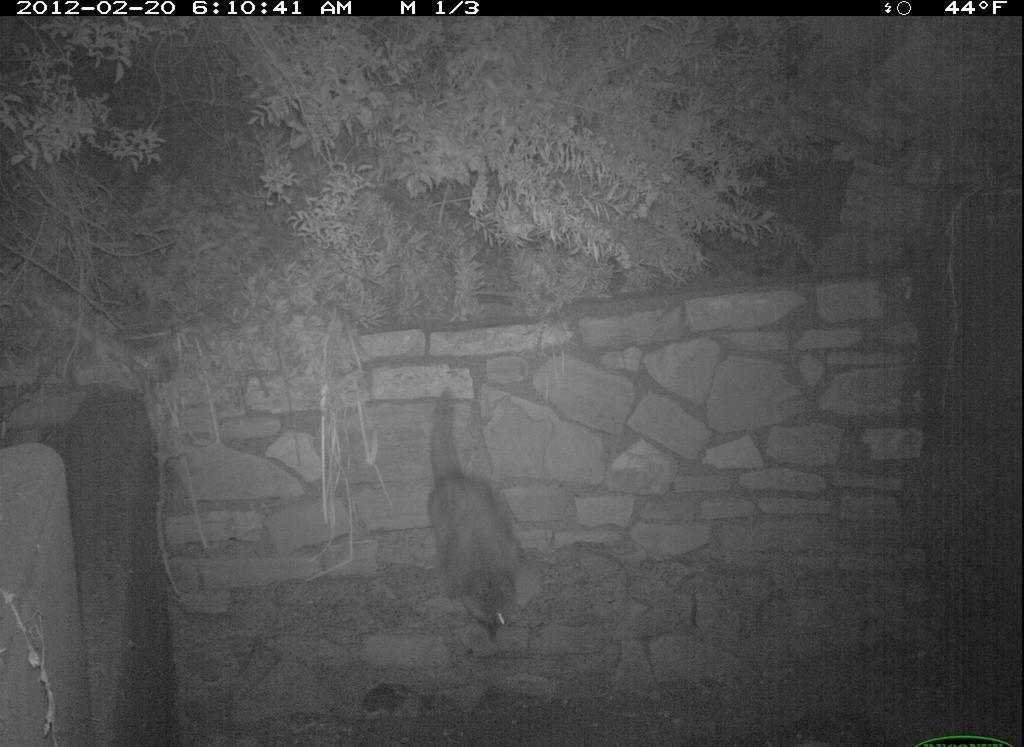raccoon: (423, 378, 537, 649)
